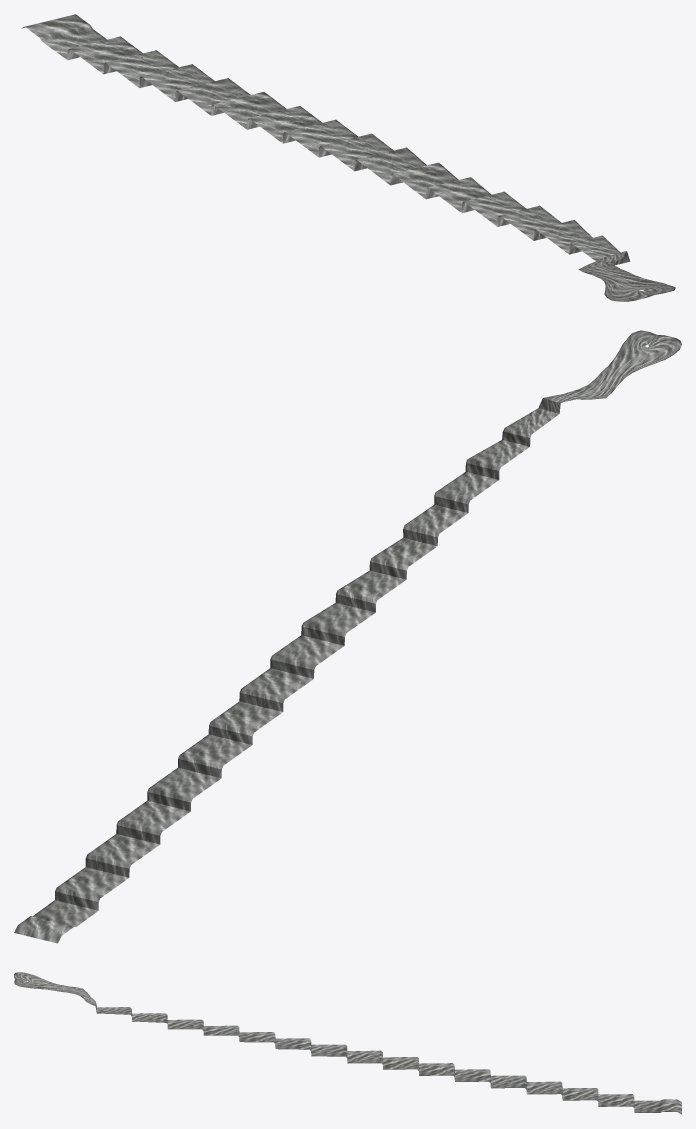
Rendered from water_fx_01_04_stairs.dae.
3 renders of one model, top to bottom at view 1: azimuth 30°, elevation 25°; view 2: azimuth 150°, elevation 25°; view 3: azimuth 270°, elevation 25°, orthographic. The views are drawn at different scales.
Visible parts, largest first — view 1: 01_04_stairs; view 2: 01_04_stairs; view 3: 01_04_stairs.
Part boxes in pixels (x1,y1,x2,y2): 01_04_stairs: (21, 14, 675, 301); 01_04_stairs: (14, 330, 681, 943); 01_04_stairs: (14, 972, 681, 1114).
Size of the model in its own units: 1.9 by 3.54 by 18.61.
